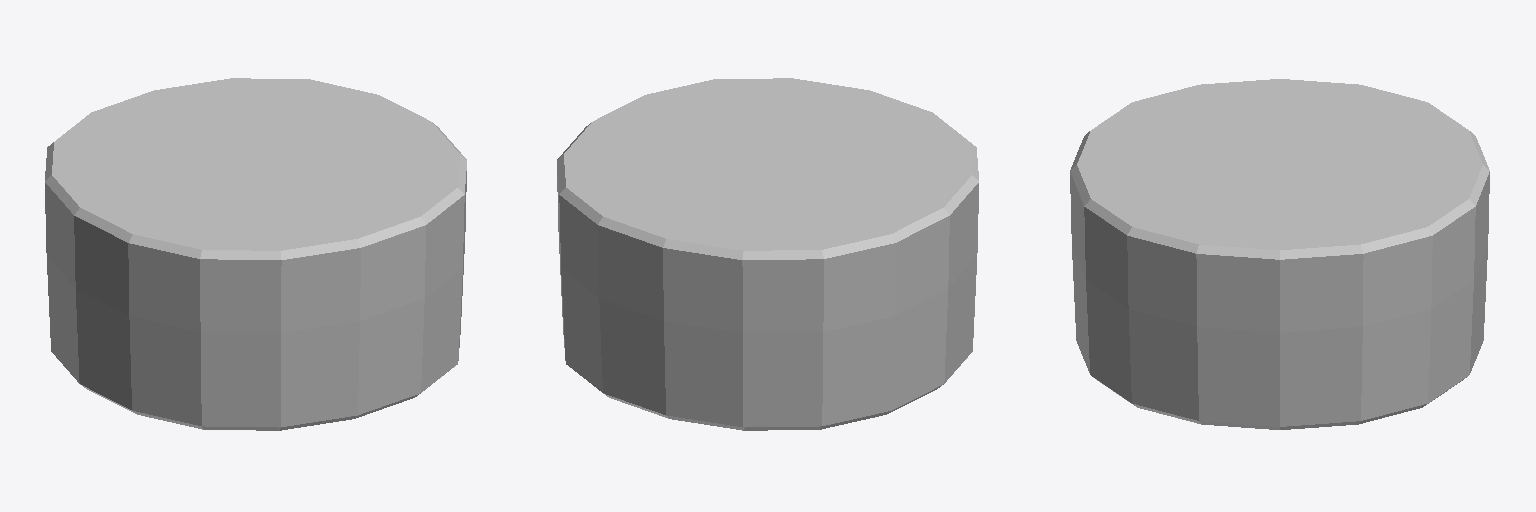
Rendered from BodyBot.obj.
The picture shows the model from 3 angles: view 1: azimuth 30°, elevation 25°; view 2: azimuth 150°, elevation 25°; view 3: azimuth 270°, elevation 25°; orthographic projection.
Visible parts, largest first — view 1: BodyBot; view 2: BodyBot; view 3: BodyBot.
Part boxes in pixels (x1,y1,x2,y2): BodyBot: (45,78,466,430); BodyBot: (557,78,978,430); BodyBot: (1070,79,1489,429).
Size of the model in its own units: 0.5875 by 0.2821 by 0.5875.